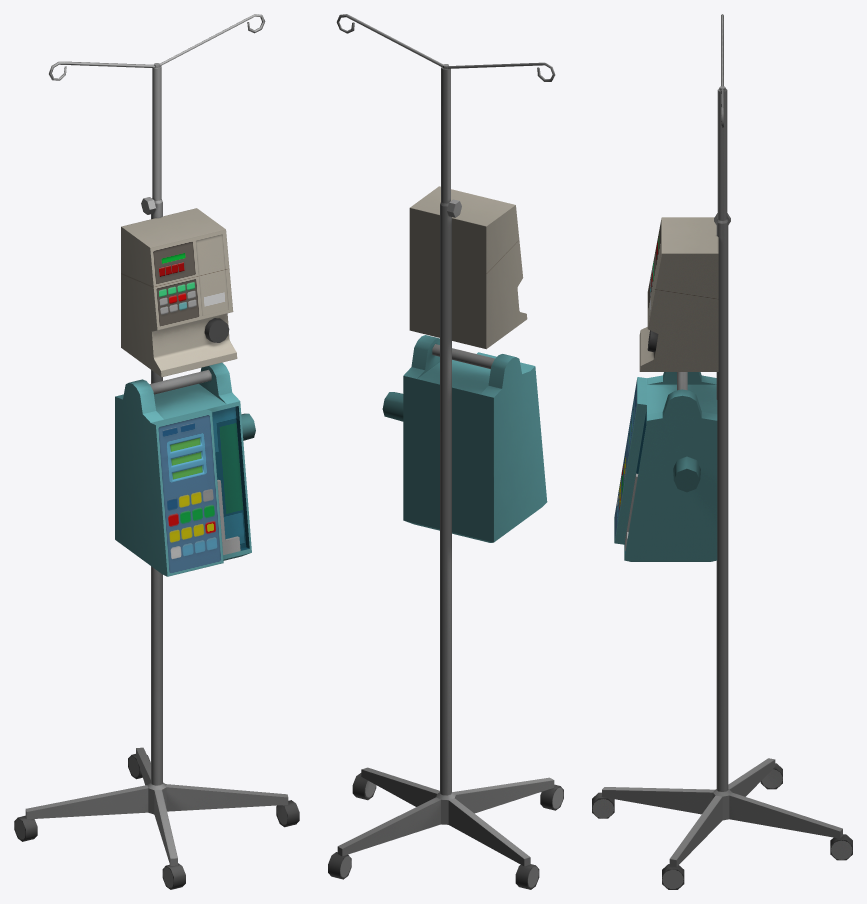
The model's file is vitalsMonitor.fbx.
3 views of the same model, side by side, from view 1: azimuth 30°, elevation 25°; view 2: azimuth 150°, elevation 25°; view 3: azimuth 270°, elevation 25° (orthographic). The views are drawn at different scales.
Visible parts, largest first — view 1: vitalsMonitor; view 2: vitalsMonitor; view 3: vitalsMonitor.
Part boxes in pixels (x1,y1,x2,y2): vitalsMonitor: (14, 14, 299, 889); vitalsMonitor: (328, 14, 563, 889); vitalsMonitor: (592, 14, 852, 889).
Size of the model in its own units: 0.5064 by 1.72 by 0.5251.
1 material, 1 textured.
